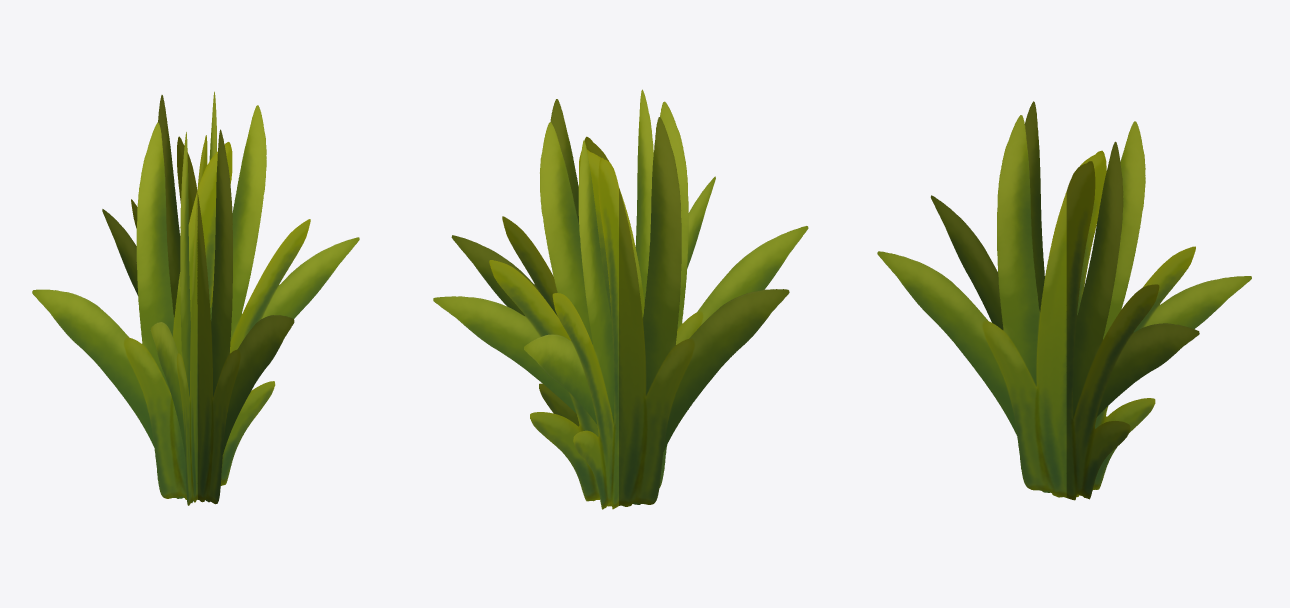
Rendered from ALGA_01B.fbx.
3 renders of one model, left to right at view 1: azimuth 30°, elevation 25°; view 2: azimuth 150°, elevation 25°; view 3: azimuth 270°, elevation 25°, orthographic. The views are drawn at different scales.
Parts seen in each view (by area): view 1: pPlane8; view 2: pPlane8; view 3: pPlane8.
Boxes of the visible parts, x1,y1,x2,y2 form: pPlane8: (32,91,359,505); pPlane8: (433,89,808,509); pPlane8: (877,101,1251,500).
Size of the model in its own units: 45.91 by 48.72 by 45.91.
